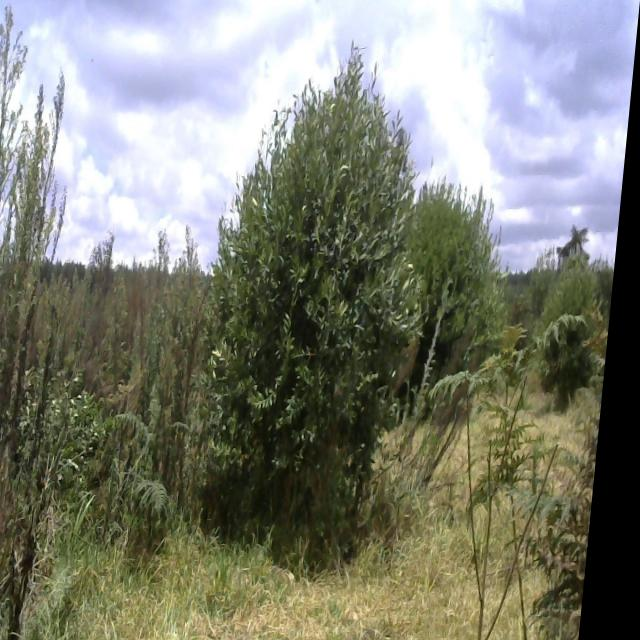Salix alba: (217, 66, 435, 518), (400, 188, 511, 371), (547, 249, 609, 411)
